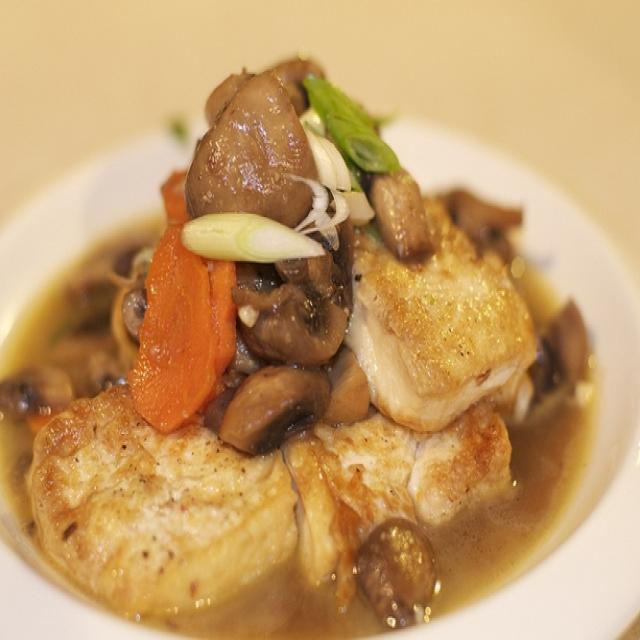豆腐料理: (16, 39, 623, 621)
